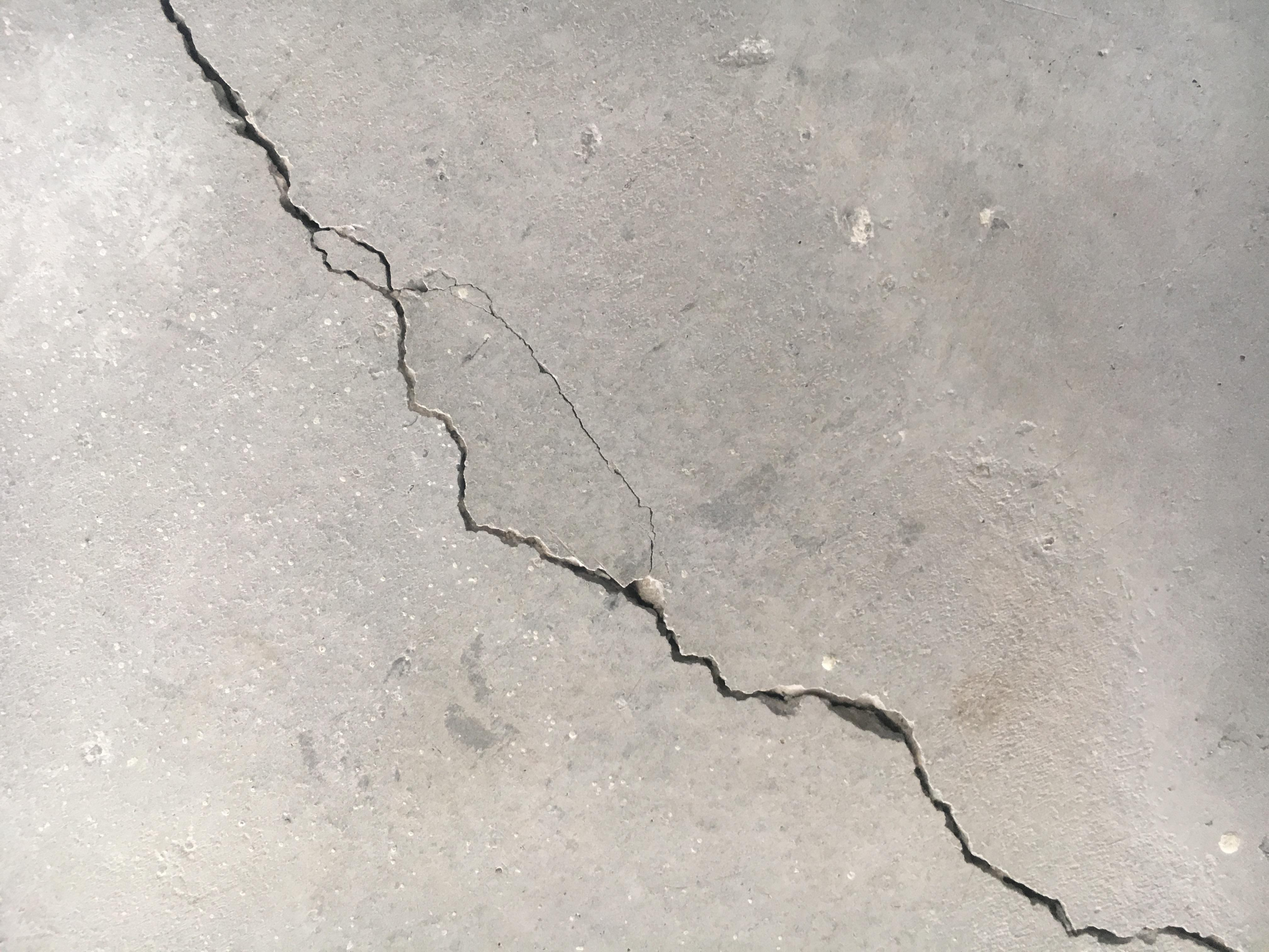Diagonal Crack: (157, 2, 1235, 947)
